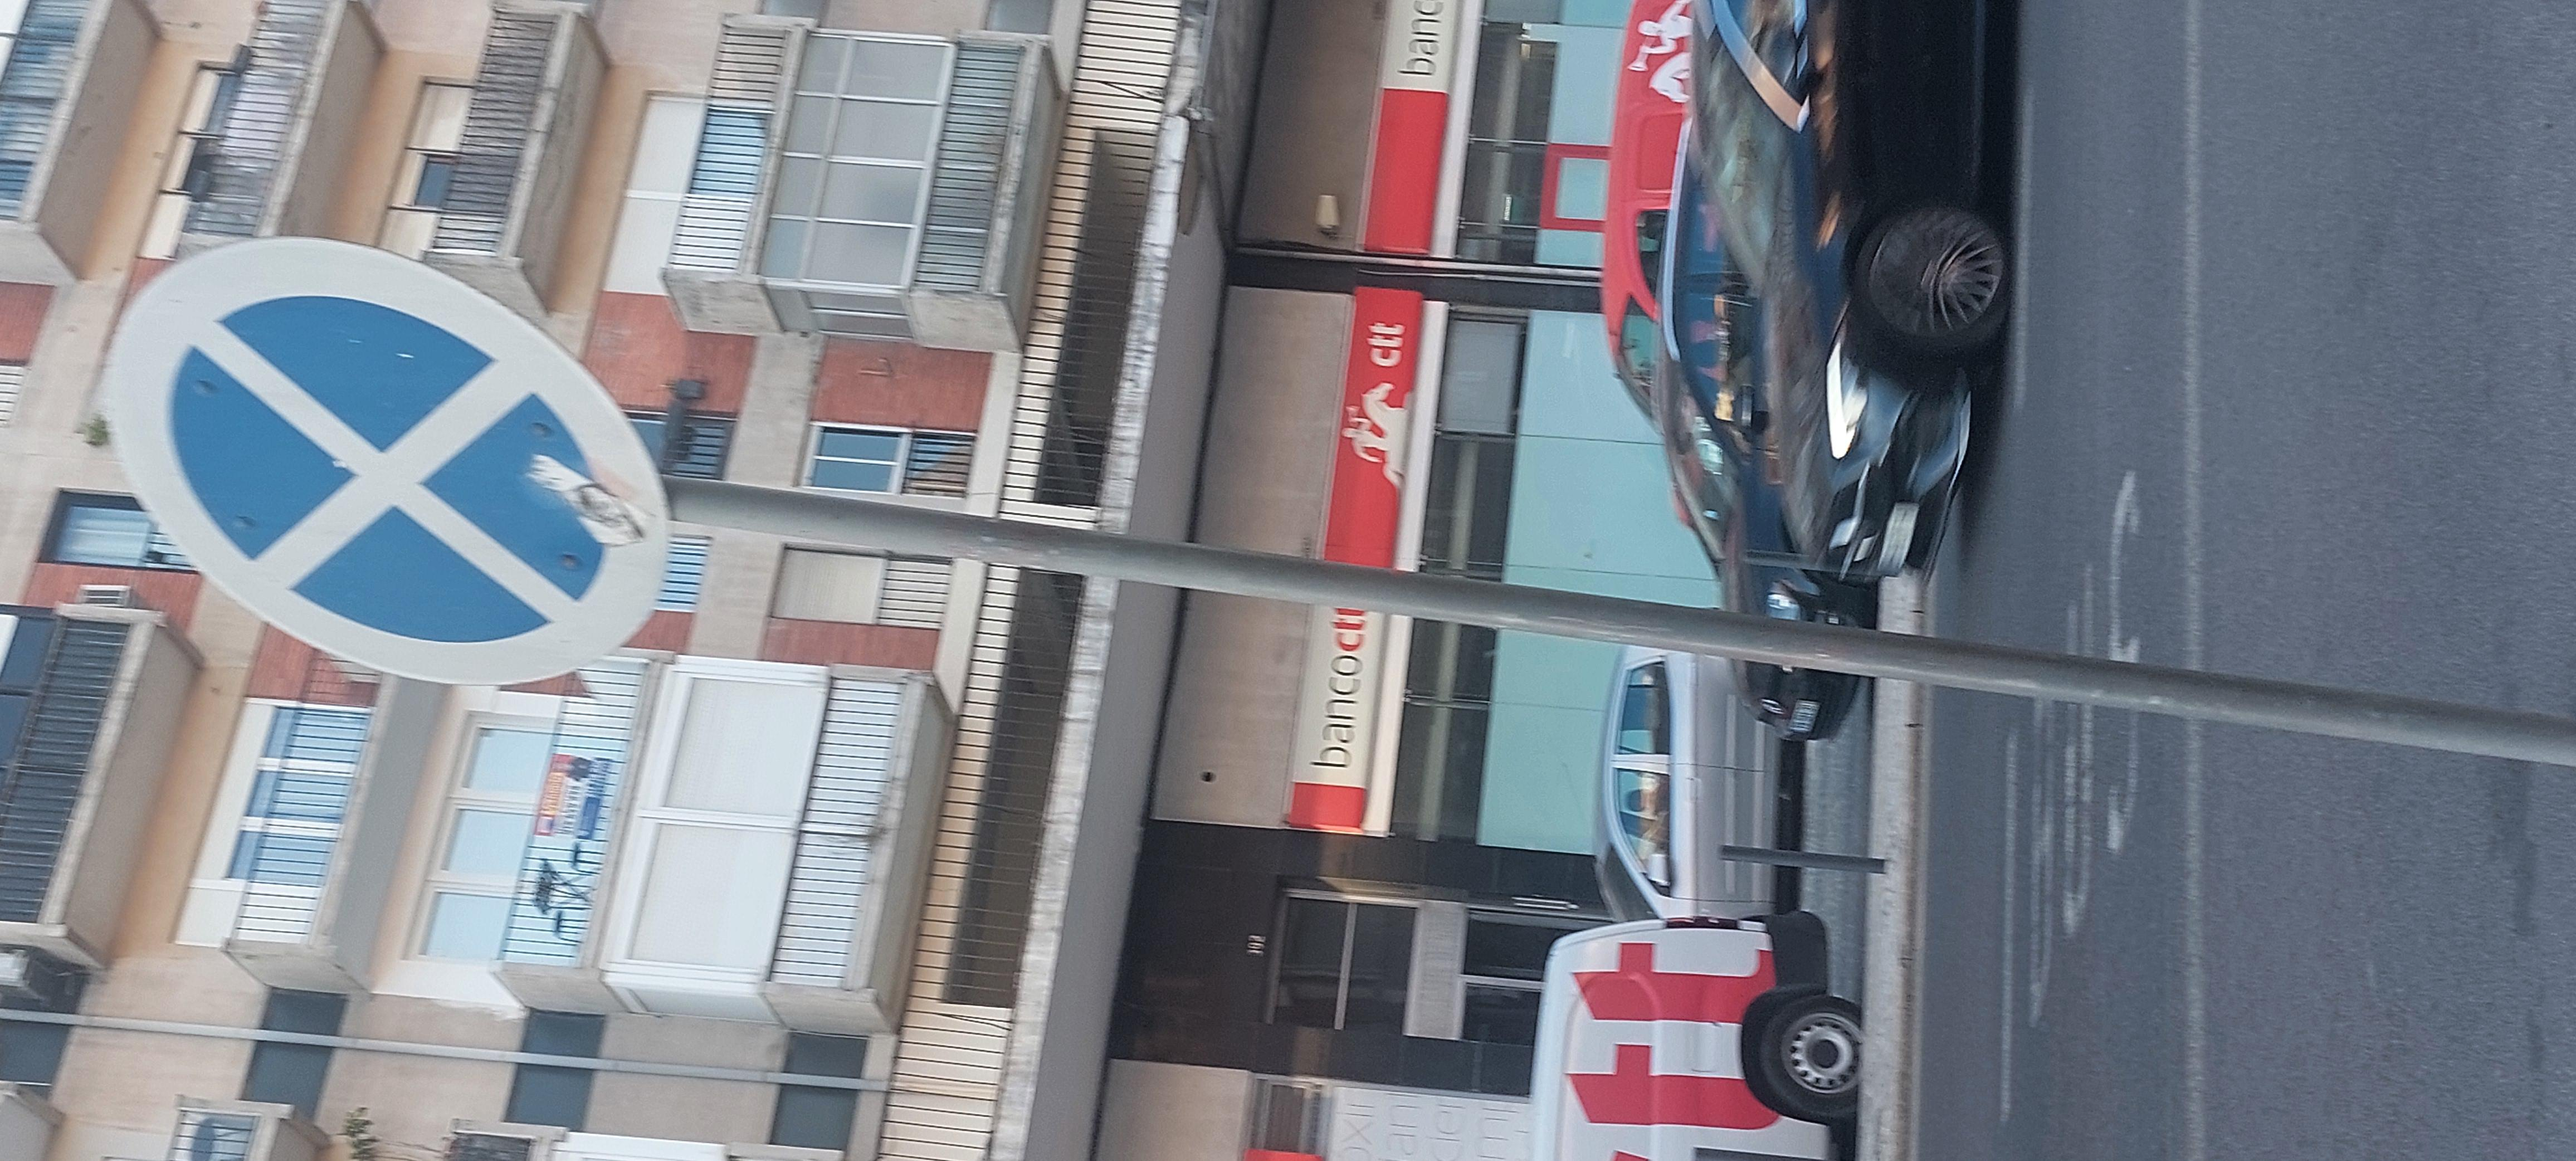paragem e estacionamento proibido: (831, 11, 2262, 343)
